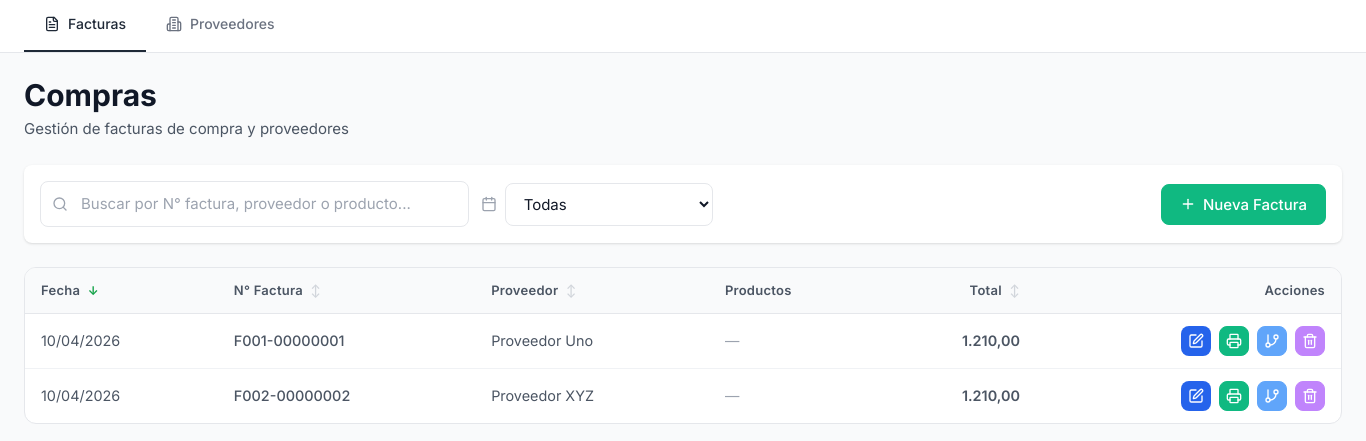
Test: Compras › filtra facturas al buscar por nombre de proveedor
The width and height of the screenshot is (1366, 441).
Expected: the text "F001-00000001" is shown, [234, 332, 344, 349]
Step 1. Type "XYZ" into the field with placeholder "Buscar por N° factura, proveedor o producto..." → coordinates (254, 204), box [40, 181, 469, 227]
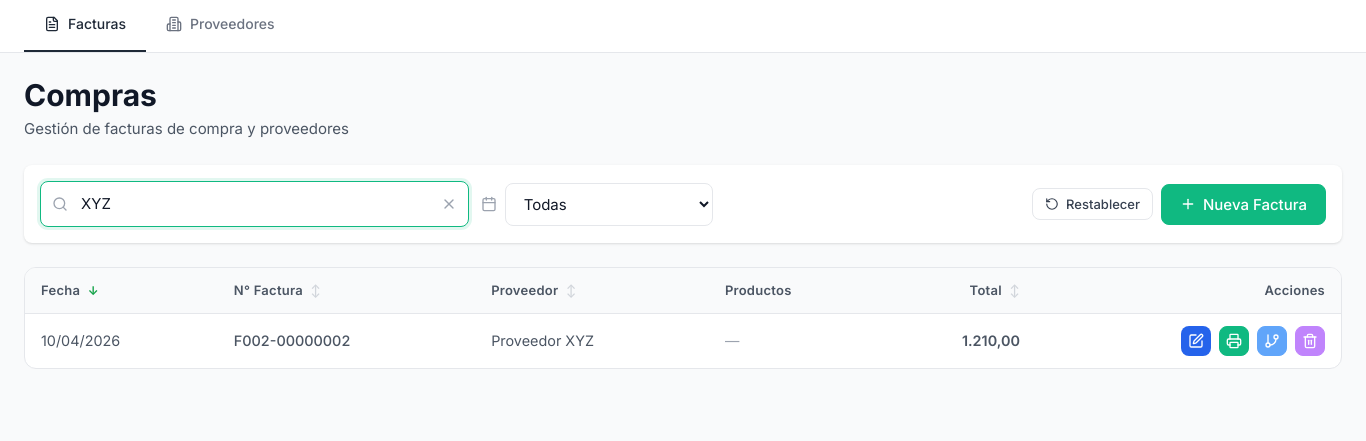
Expected: the text "F002-00000002" is shown, [234, 332, 350, 349]
Result: the text "F001-00000001" is gone
